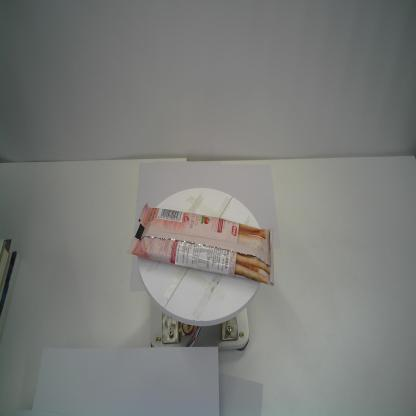Dessert: (126, 202, 275, 288)
